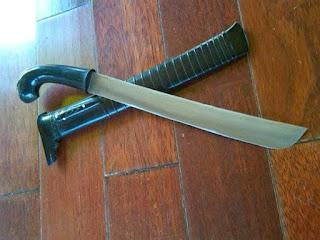espada: (17, 64, 306, 147)
